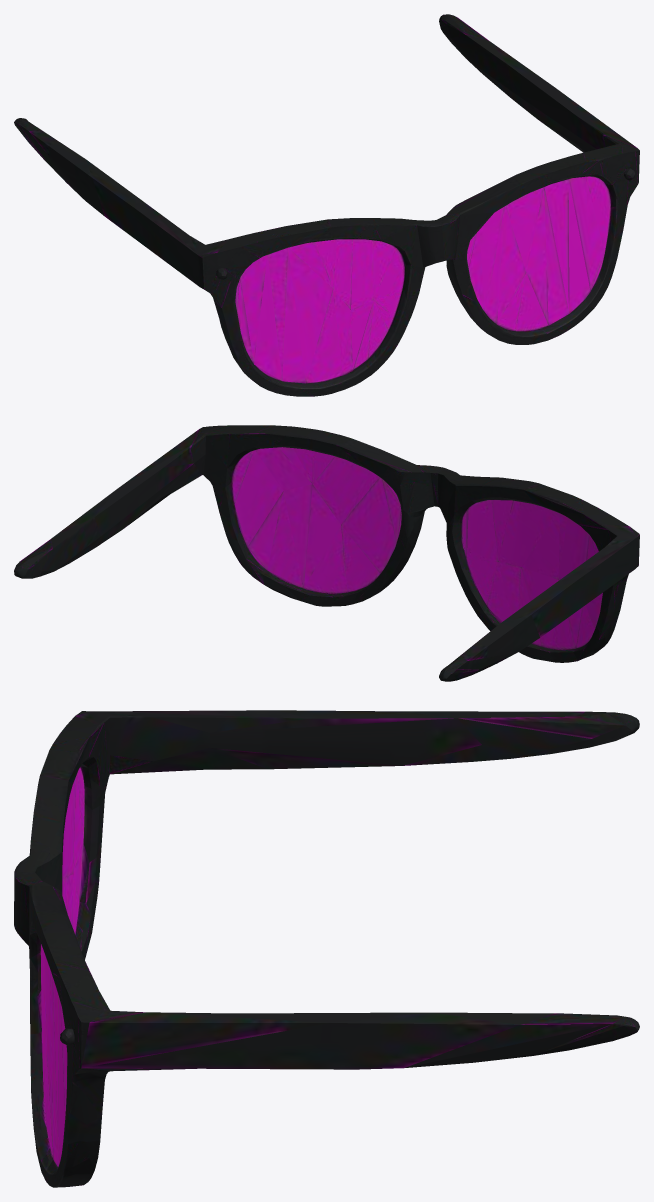
File: neon_shades.glb
The picture shows the model from 3 angles, top to bottom: view 1: azimuth 30°, elevation 25°; view 2: azimuth 150°, elevation 25°; view 3: azimuth 270°, elevation 25°; orthographic projection. The views are drawn at different scales.
Bounding box in the file's own units: 1.9 × 0.6924 × 1.61.
Materials: 1 (1 with a texture image).
